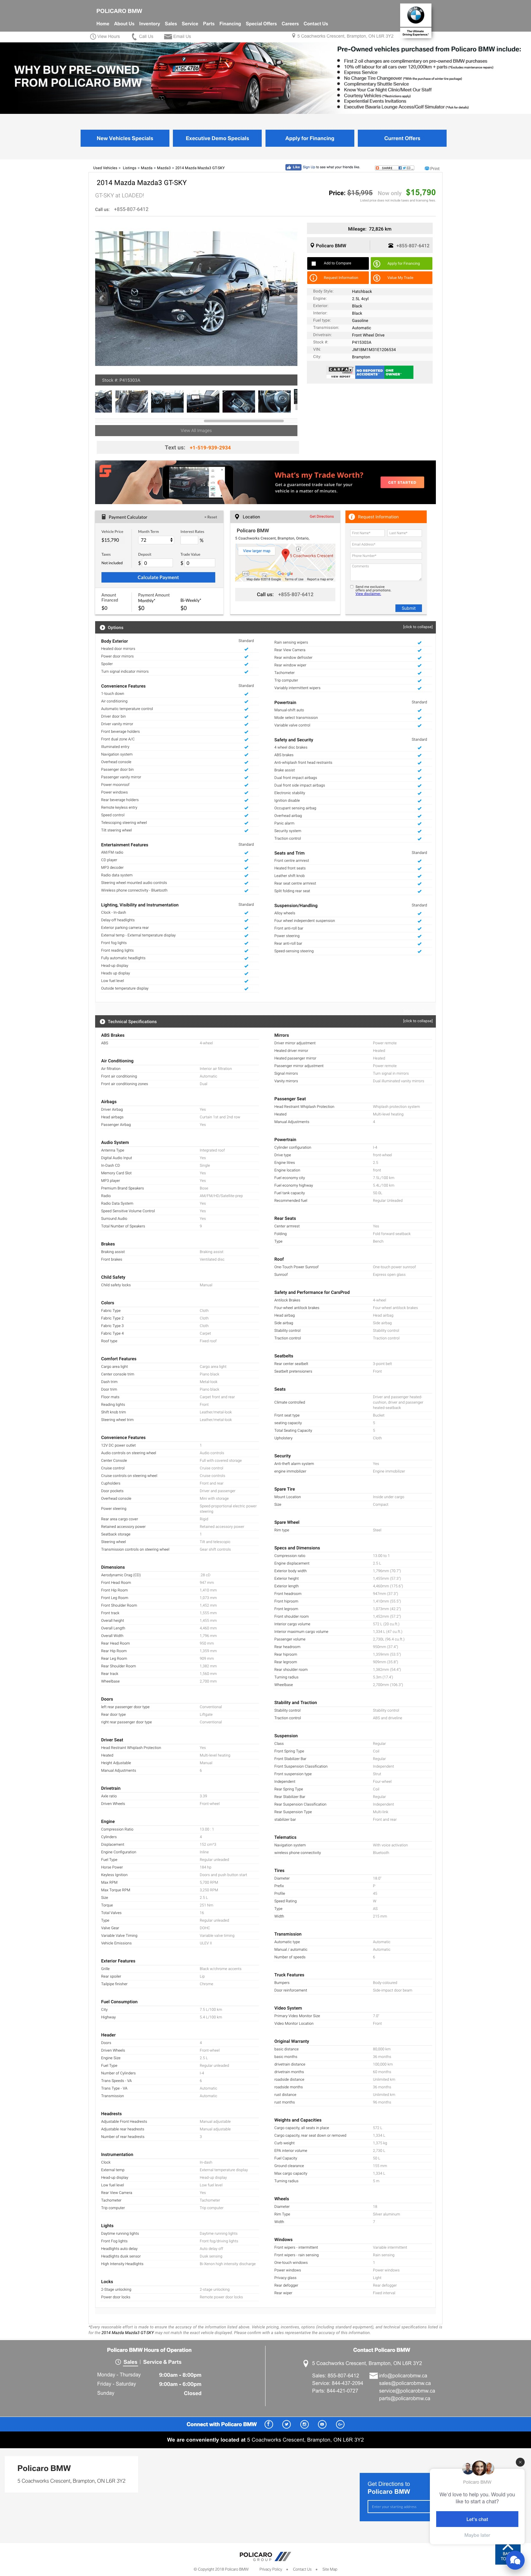car: (289, 296, 294, 302)
